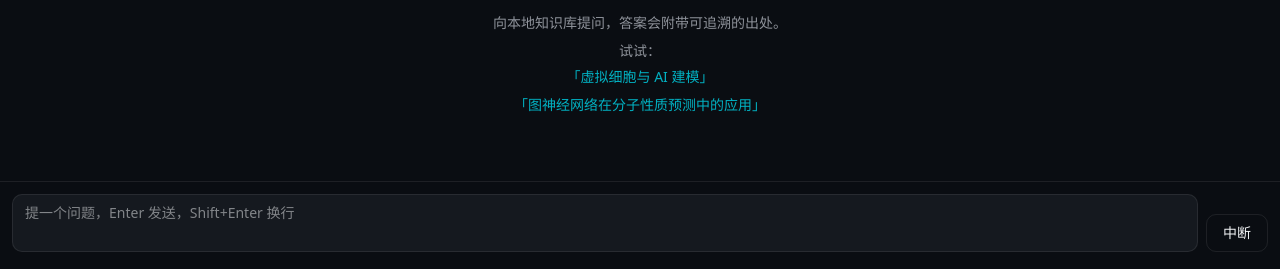
ChatPanel — 空态示例问题 › 点示例问题只填进输入框，不直接发送
This screenshot has width=1280, height=269.
Click the button with test id "sample-question" showing "「虚拟细胞与 AI 建模」": [640, 77] box [558,65,722,89]
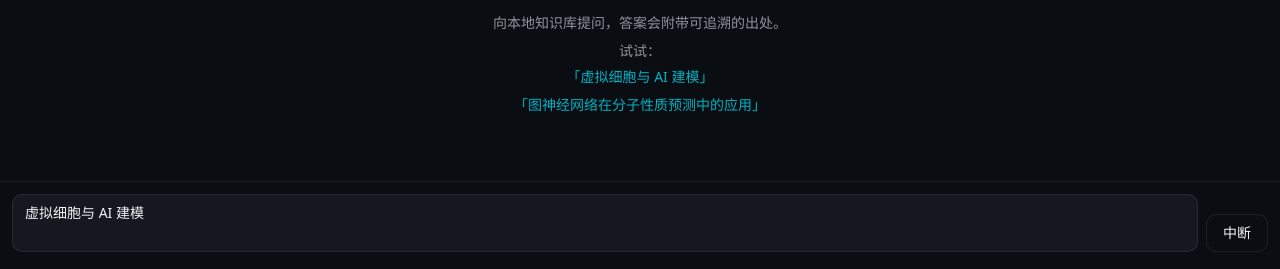
expect the text box holds "虚拟细胞与 AI 建模": met, box [12,194,1198,252]
